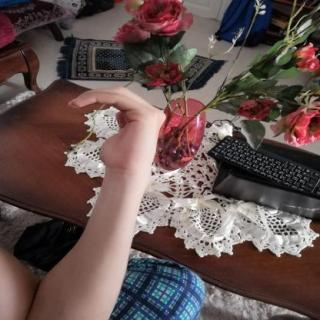HAA: (56, 77, 176, 174)
